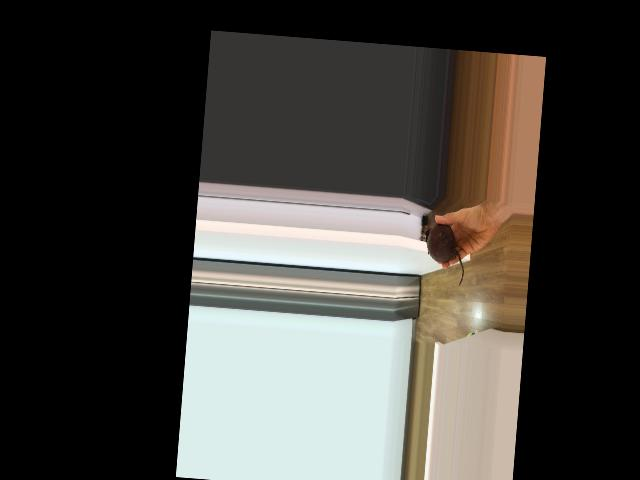beet: (422, 223, 467, 286)
